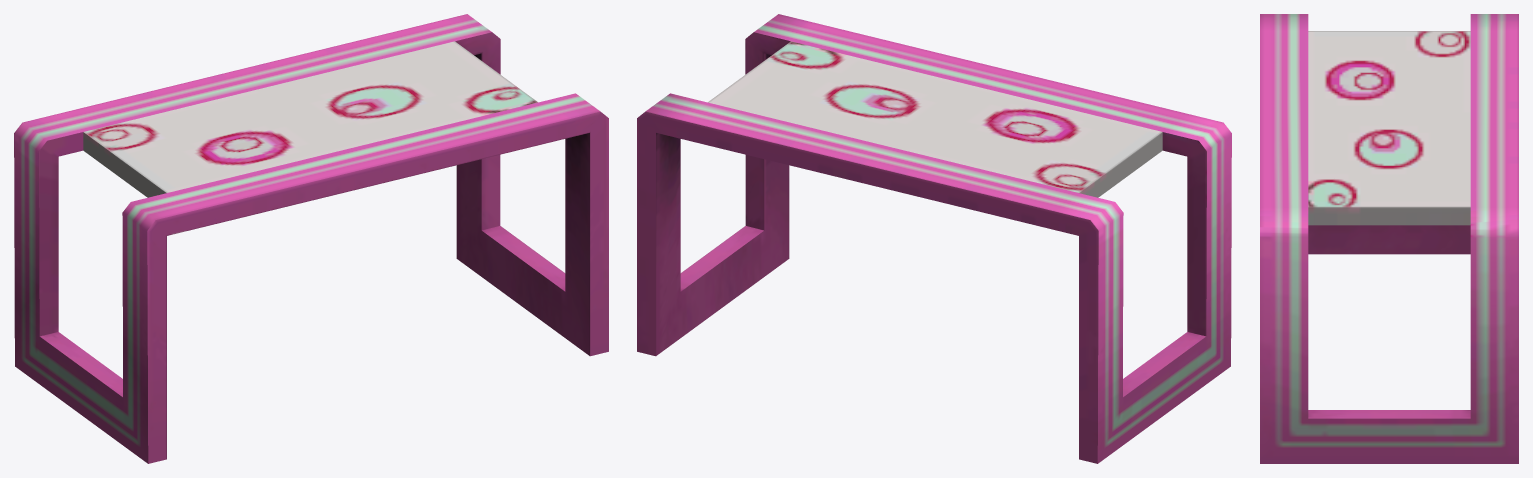
File: furni_0200506_01.FBX
The picture shows the model from 3 angles, left to right: view 1: azimuth 30°, elevation 25°; view 2: azimuth 150°, elevation 25°; view 3: azimuth 270°, elevation 25°; orthographic projection. The views are drawn at different scales.
Parts seen in each view (by area): view 1: furni_0200506_01; view 2: furni_0200506_01; view 3: furni_0200506_01.
Part boxes in pixels (x1=…): furni_0200506_01: x1=14, y1=14, x2=608, y2=463; furni_0200506_01: x1=637, y1=14, x2=1231, y2=463; furni_0200506_01: x1=1260, y1=14, x2=1518, y2=463.
Bounding box in the file's own units: 160 × 80.19 × 80.
1 material, 1 textured.
